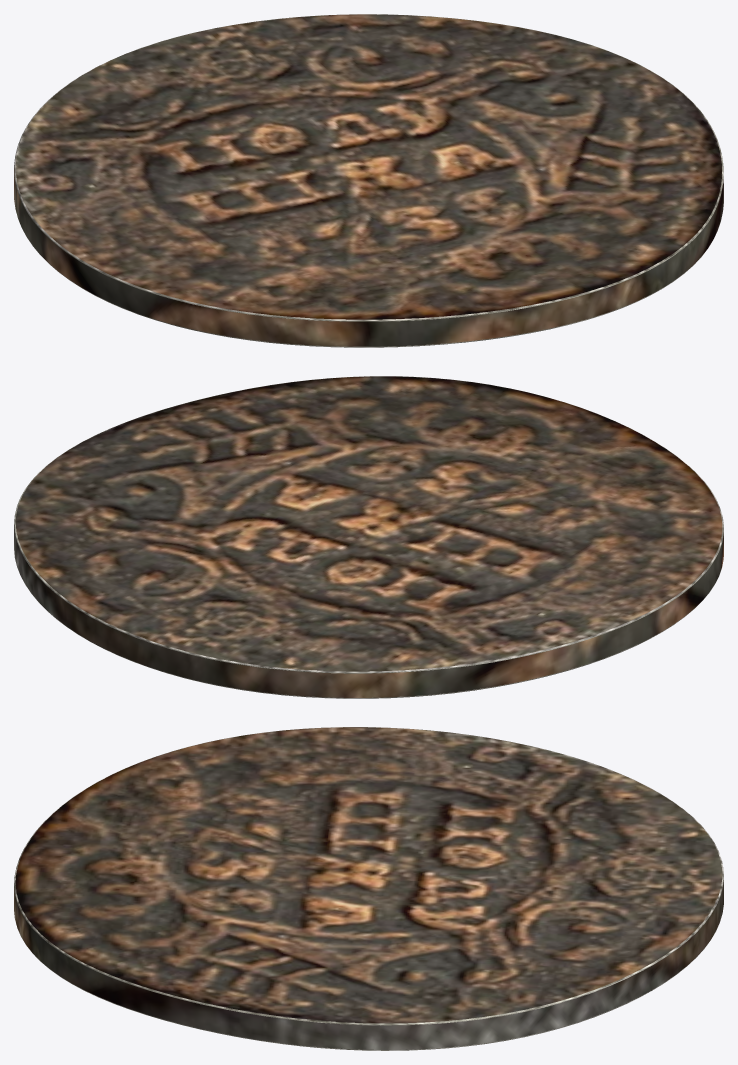
The picture shows the model from 3 angles, top to bottom: view 1: azimuth 30°, elevation 25°; view 2: azimuth 150°, elevation 25°; view 3: azimuth 270°, elevation 25°; orthographic projection. The views are drawn at different scales.
Parts seen in each view (by area): view 1: Cylinder.002; view 2: Cylinder.002; view 3: Cylinder.002.
Part boxes in pixels (box(x1,y1,x2,y2)): Cylinder.002: box(14, 14, 723, 347); Cylinder.002: box(14, 376, 723, 698); Cylinder.002: box(14, 727, 723, 1050).
Bounding box in the file's own units: 1.75 × 0.0787 × 1.77.
Materials: 2 (2 with a texture image).
